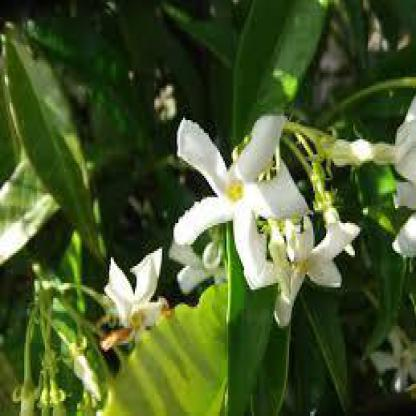Melati: (165, 100, 301, 267), (266, 209, 356, 331), (82, 241, 172, 338)
